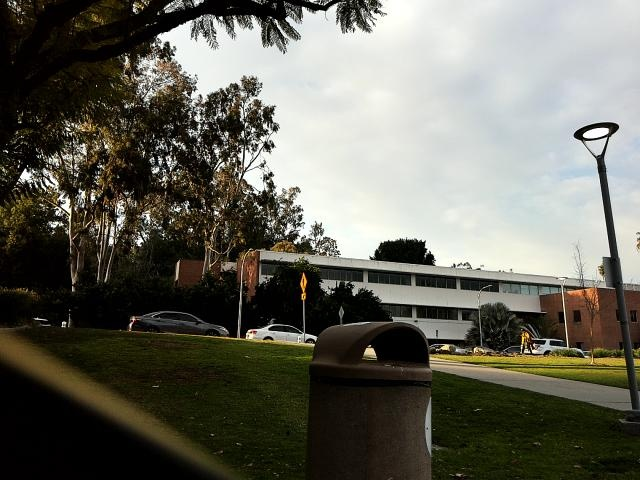trashcan: (308, 309, 437, 480)
